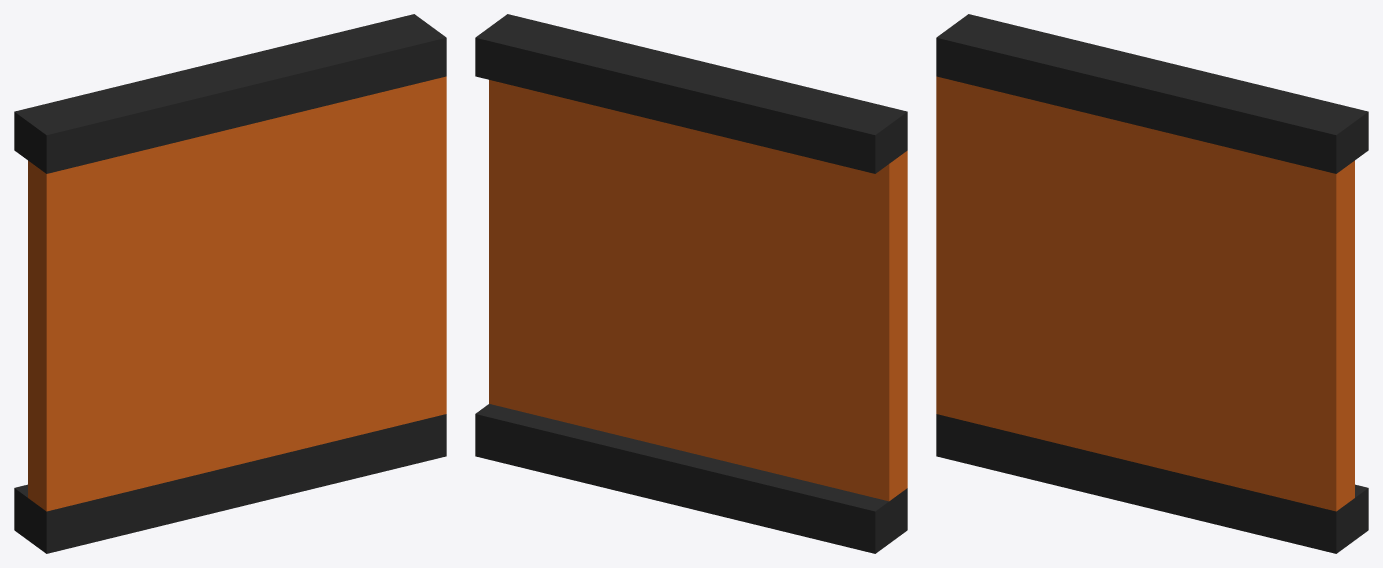
File: MOD_MurB.FBX
3 renders of one model, left to right at view 1: azimuth 30°, elevation 25°; view 2: azimuth 150°, elevation 25°; view 3: azimuth 330°, elevation 25°, orthographic.
Parts seen in each view (by area): view 1: MOD_murc004; view 2: MOD_murc004; view 3: MOD_murc004.
Boxes of the visible parts, <box> form: MOD_murc004: <box>14,14,446,553</box>; MOD_murc004: <box>475,14,907,553</box>; MOD_murc004: <box>936,14,1368,553</box>.
Bounding box in the file's own units: 0.9528 × 0.9528 × 0.1334.
